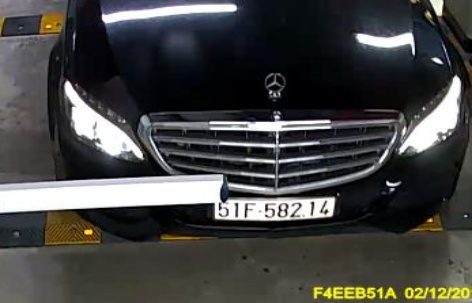plate: (215, 194, 337, 224)
